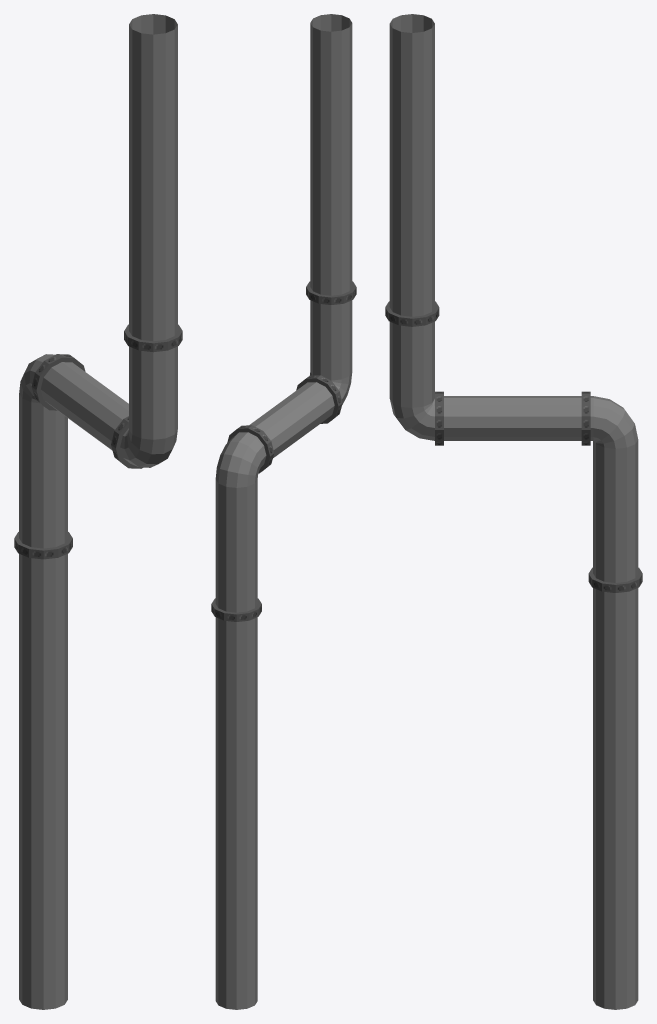
Rendered from pipe.fbx.
The picture shows the model from 3 angles, left to right: view 1: azimuth 30°, elevation 25°; view 2: azimuth 150°, elevation 25°; view 3: azimuth 270°, elevation 25°; orthographic projection. The views are drawn at different scales.
Parts seen in each view (by area): view 1: Circle; view 2: Circle; view 3: Circle.
Part boxes in pixels (bbox=[...]): Circle: bbox=[14, 14, 182, 1009]; Circle: bbox=[211, 14, 356, 1009]; Circle: bbox=[385, 14, 642, 1009].
Bounding box in the file's own units: 1140 × 240 × 4770.
